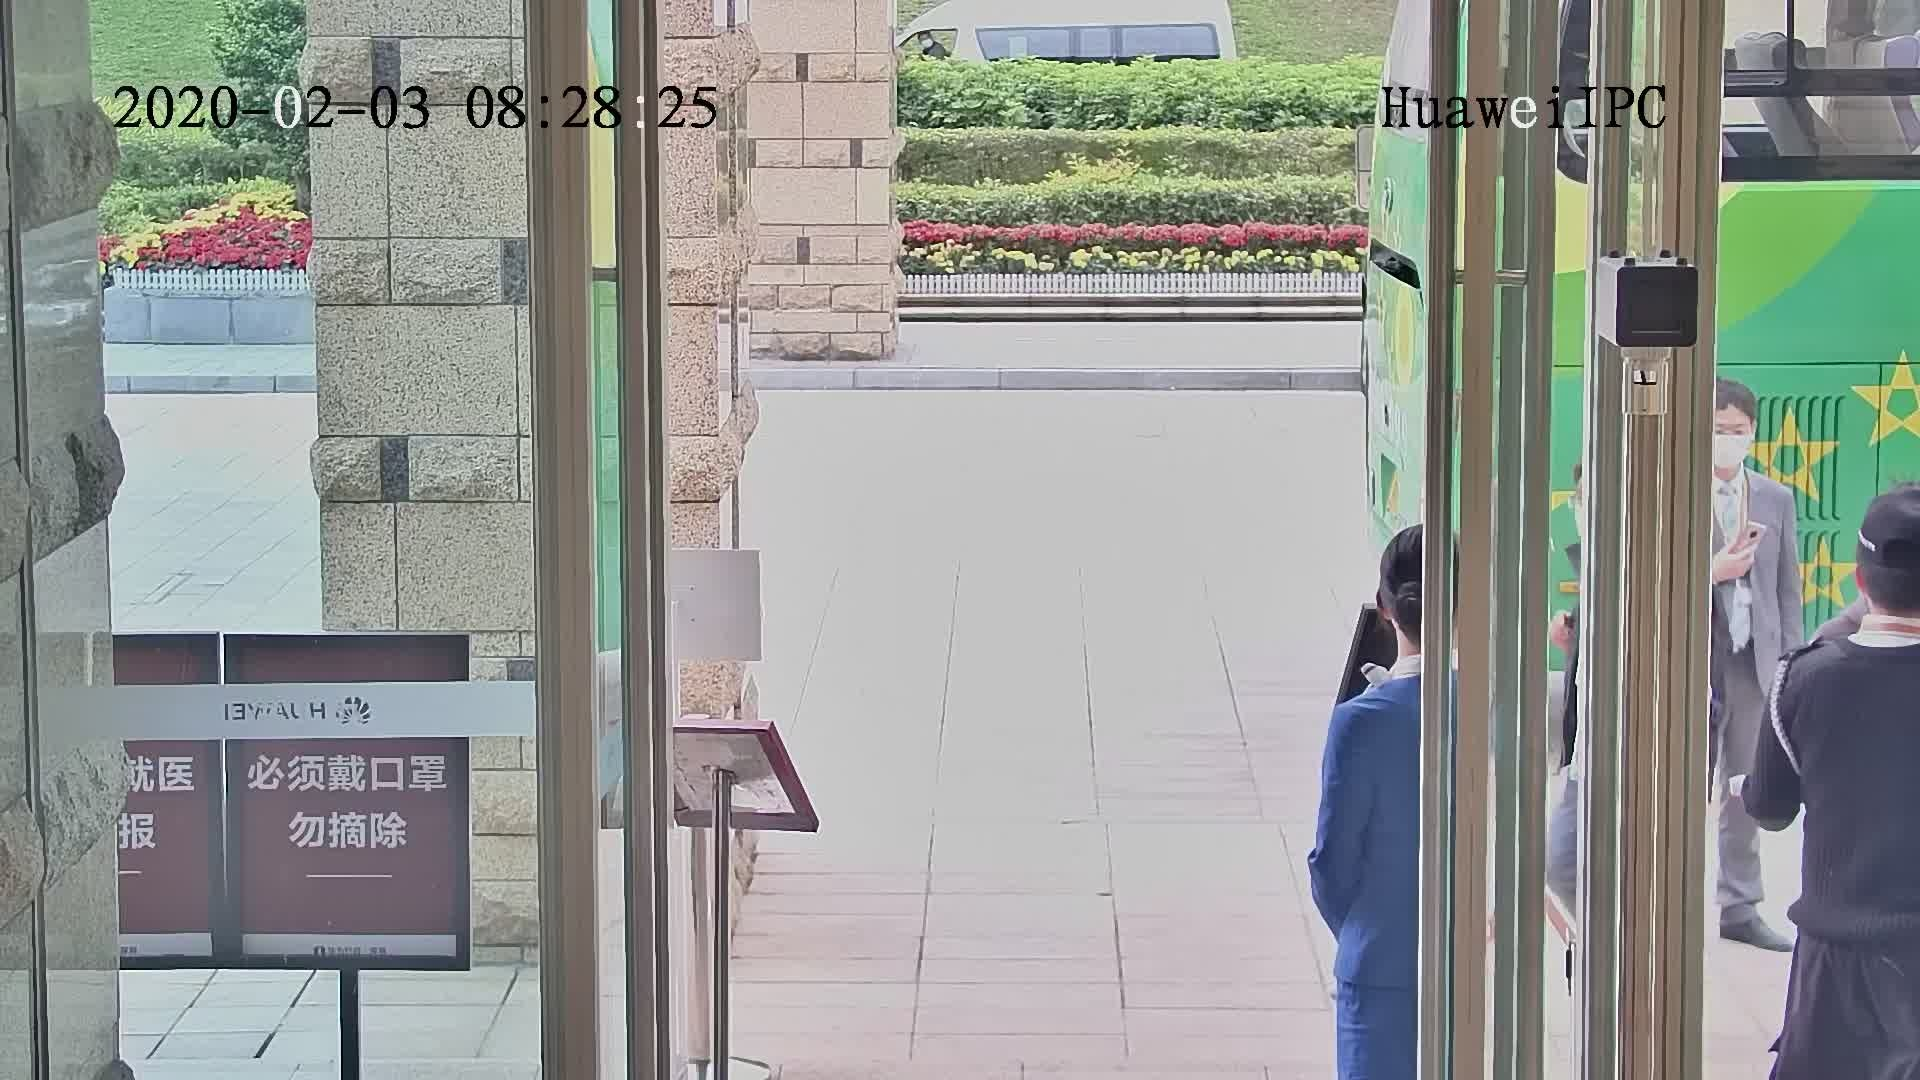face: (1718, 402, 1751, 478)
mask: (1716, 435, 1754, 475)
person: (1786, 480, 1920, 731), (1337, 528, 1433, 761), (1705, 378, 1786, 523)
